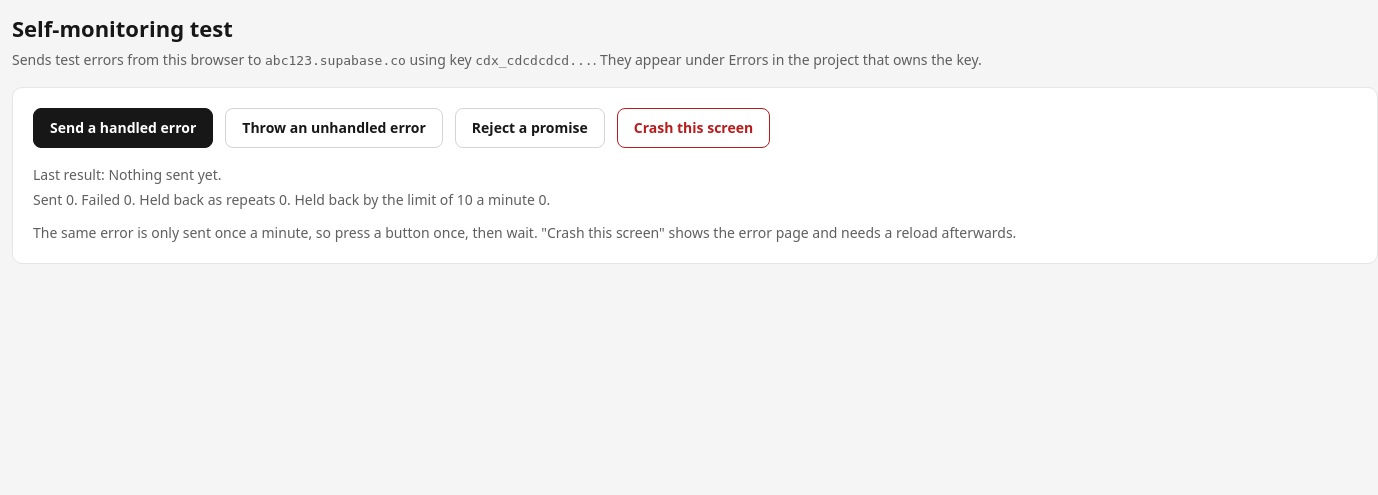
error boundary › shows a friendly page and reports the crash
Click the button "Crash this screen" at (694,128), box [617,108,770,148]
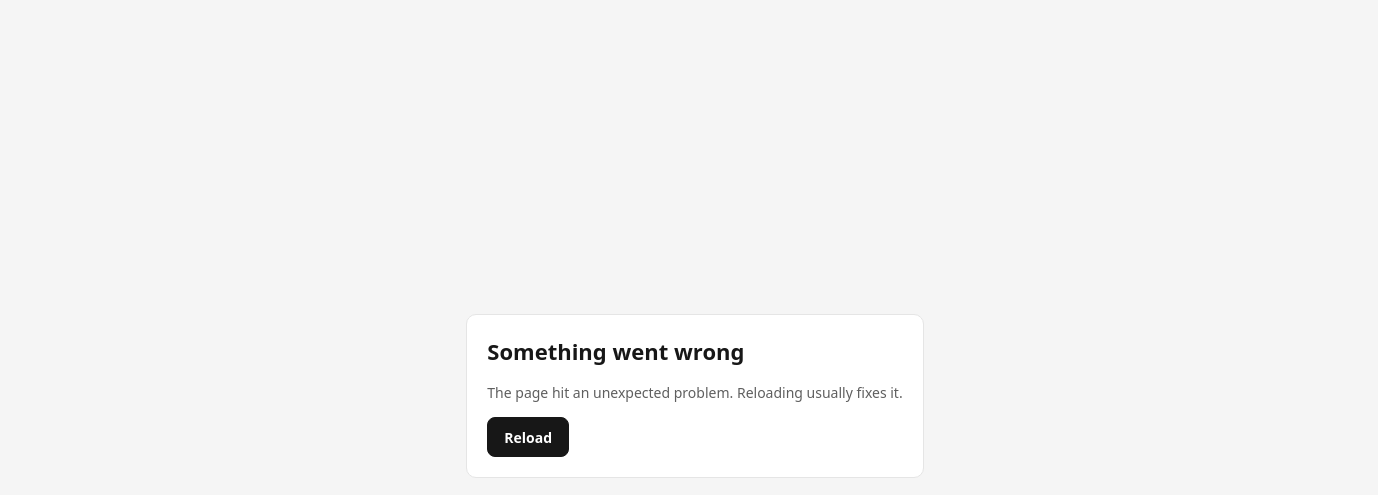
Expected: the message is shown, [466,314,924,478]
Expected: the heading "Something went wrong" is shown, [487,336,744,366]
Expected: the button "Reload" is shown, [487,417,569,457]
